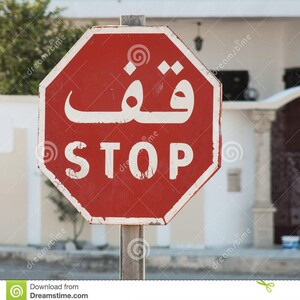stop: (38, 27, 218, 226)
